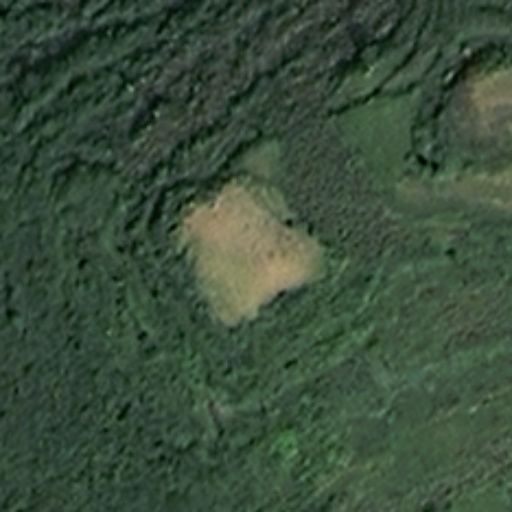landslide: (181, 177, 329, 324)
